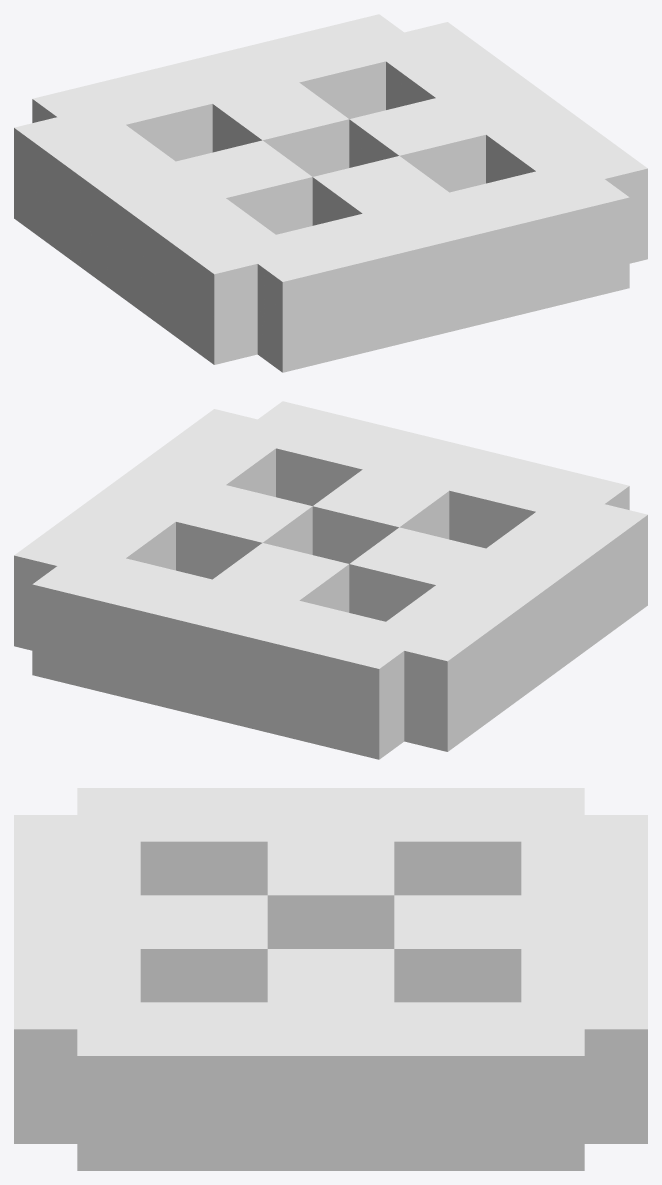
File: tile_x.obj
The picture shows the model from 3 angles, top to bottom: view 1: azimuth 30°, elevation 25°; view 2: azimuth 150°, elevation 25°; view 3: azimuth 270°, elevation 25°; orthographic projection. The views are drawn at different scales.
Bounding box in the file's own units: 1 × 0.2 × 1.
Materials: 1 (1 with a texture image).
